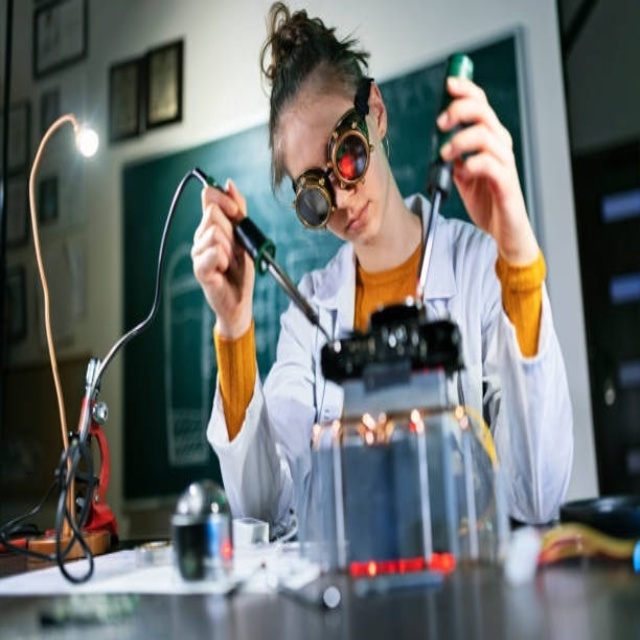Gafas: (289, 82, 375, 230)
Sin_guantes: (432, 68, 533, 254), (190, 175, 256, 328)
Sin_mascara: (342, 188, 383, 251)
